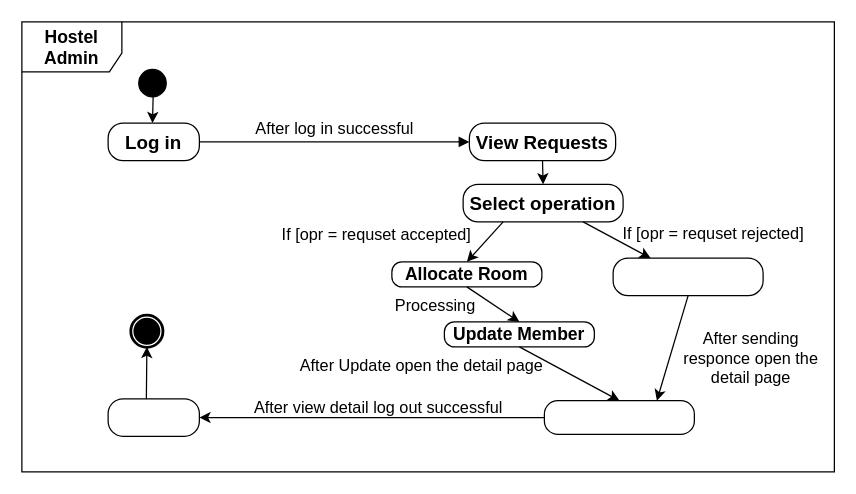
The diagram is 856 pixels wide and 494 high, and some of its shapes have lost their labels. Each missing label, with the centre of its shape:
Log out: point 153,417
send responce to member: point 687,276
View Details: point 618,416
